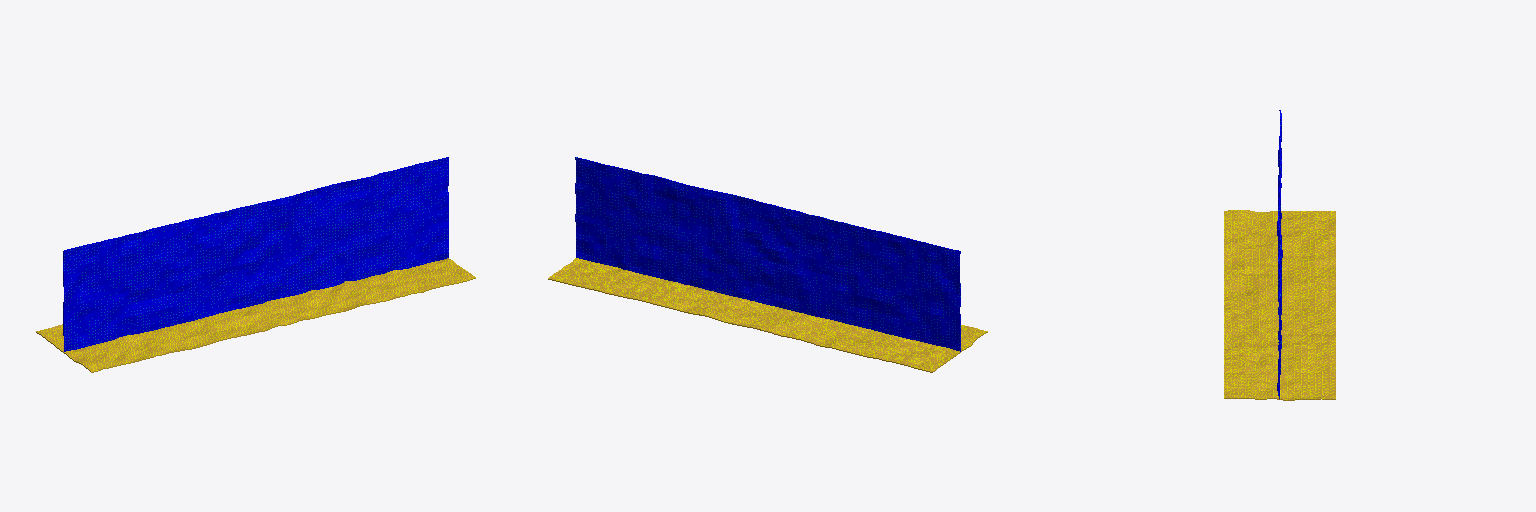
The picture shows the model from 3 angles: view 1: azimuth 30°, elevation 25°; view 2: azimuth 150°, elevation 25°; view 3: azimuth 270°, elevation 25°; orthographic projection.
Parts seen in each view (by area): view 1: seawall, seafloor; view 2: seawall, seafloor; view 3: seafloor, seawall.
Part boxes in pixels (left/top/right/bottom): seawall: left=63, top=157, right=448, bottom=351; seafloor: left=36, top=258, right=475, bottom=372; seawall: left=575, top=157, right=960, bottom=351; seafloor: left=548, top=258, right=987, bottom=372; seafloor: left=1224, top=210, right=1335, bottom=400; seawall: left=1277, top=110, right=1282, bottom=398.
Bounding box in the file's own units: 400 × 103 × 100.
Materials: 2 (2 with a texture image).